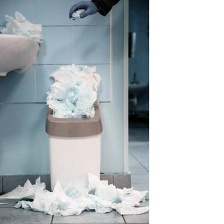tissue: (0, 169, 149, 220), (42, 59, 104, 123), (0, 7, 45, 44), (67, 5, 90, 21)
